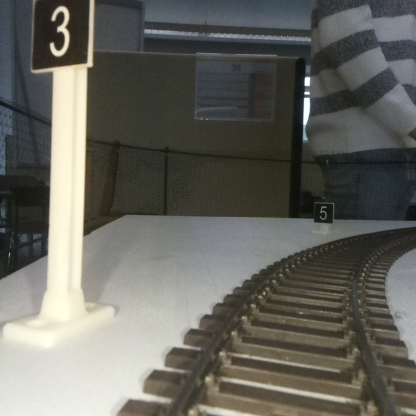black-info-3: (32, 1, 90, 338)
black-stop-5: (314, 203, 333, 233)
